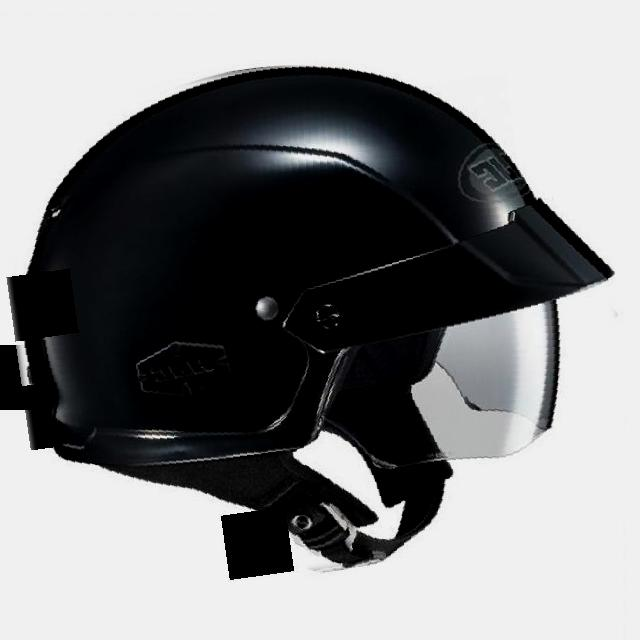helmet: (0, 43, 635, 590)
